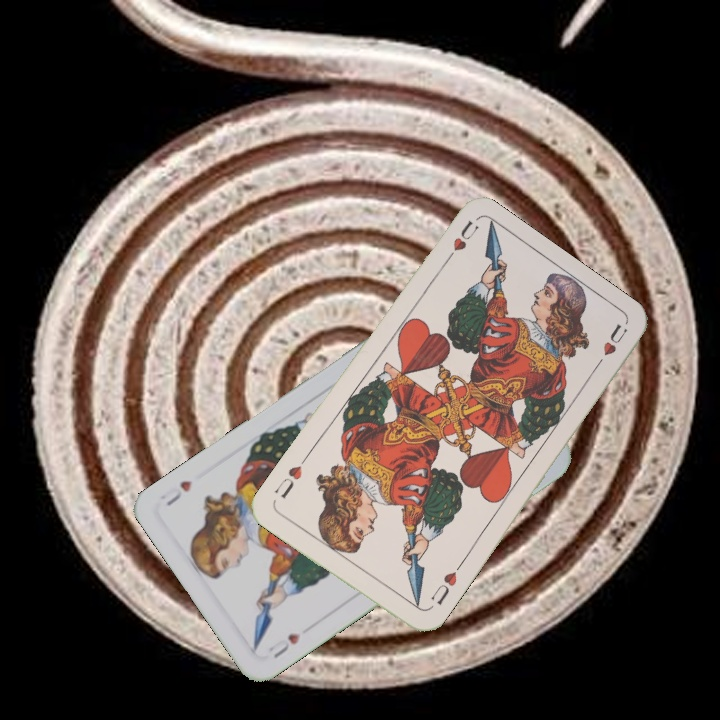HU: (439, 215, 481, 269), (428, 561, 464, 608), (264, 629, 303, 661)
